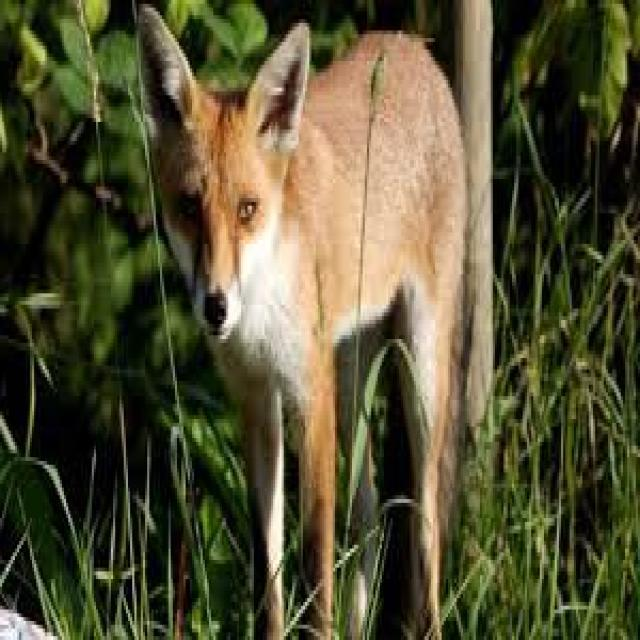fox: (143, 4, 467, 636)
